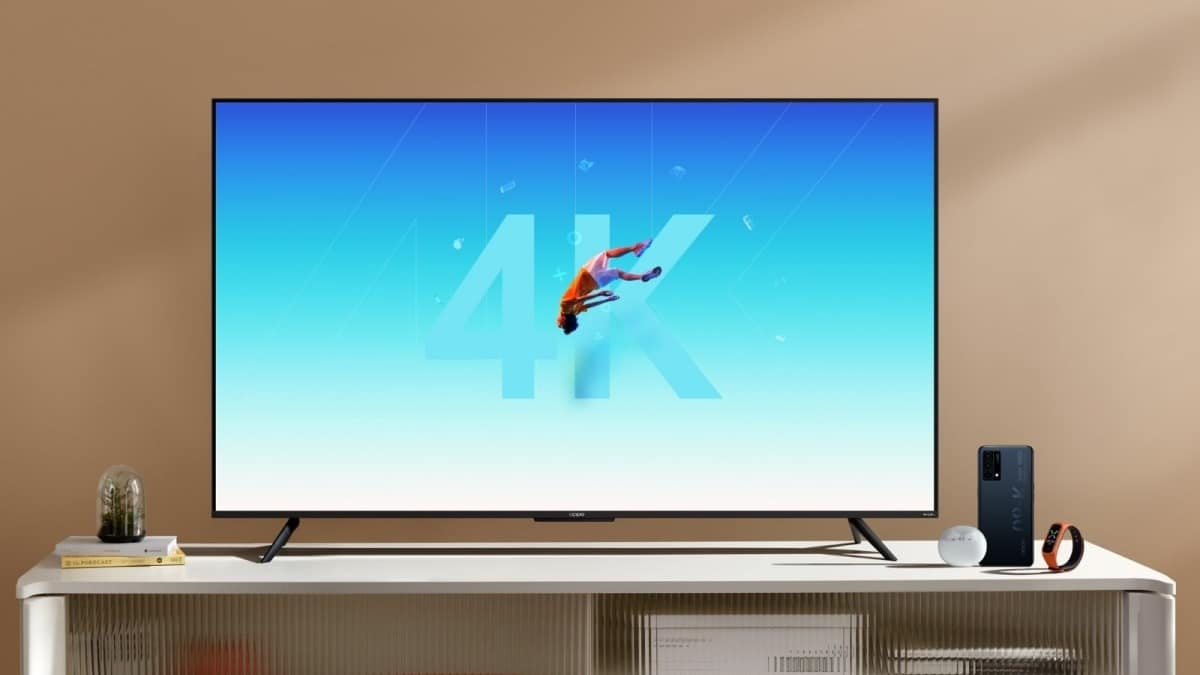tv: (164, 87, 954, 568)
